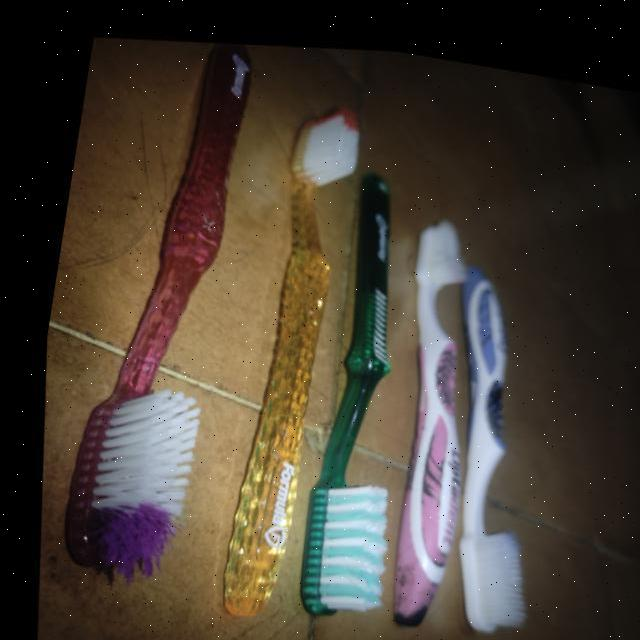toothbrush: (52, 41, 250, 582), (208, 96, 342, 600), (299, 158, 383, 610), (385, 212, 457, 619), (448, 264, 520, 622)
